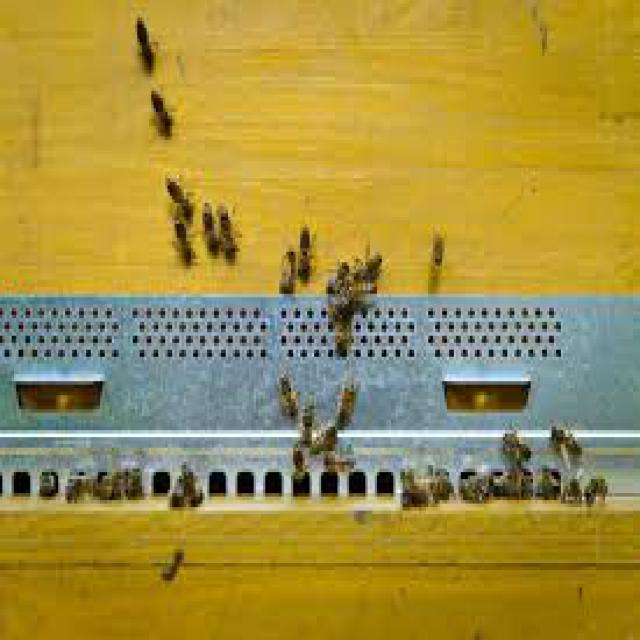Abeille: (547, 417, 589, 480), (130, 13, 166, 82), (163, 170, 201, 231), (266, 365, 302, 422), (214, 199, 242, 269), (335, 368, 361, 437), (148, 88, 178, 145), (297, 220, 318, 286)
